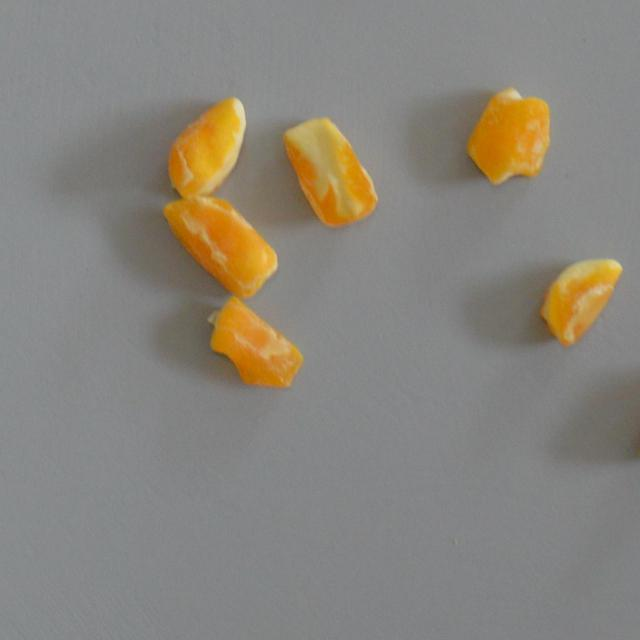dañado: (160, 194, 280, 300), (278, 110, 381, 231), (204, 291, 306, 393), (462, 82, 553, 189), (164, 92, 249, 200), (536, 251, 625, 350)
